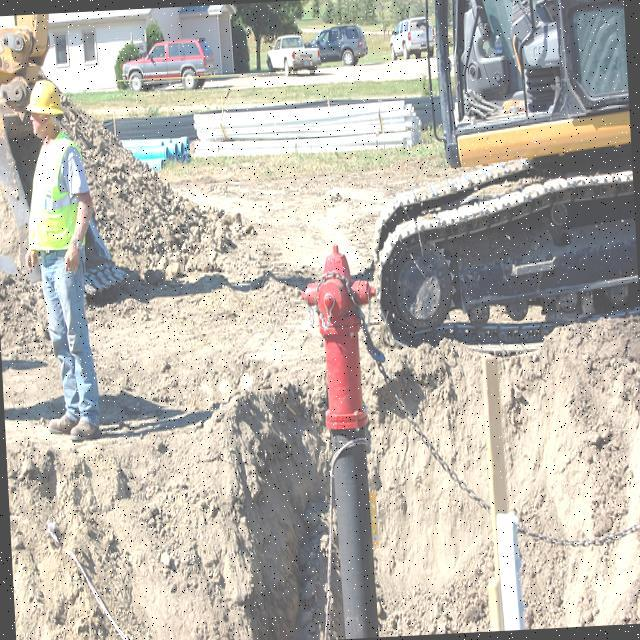fire_hydrant: (293, 243, 394, 640)
